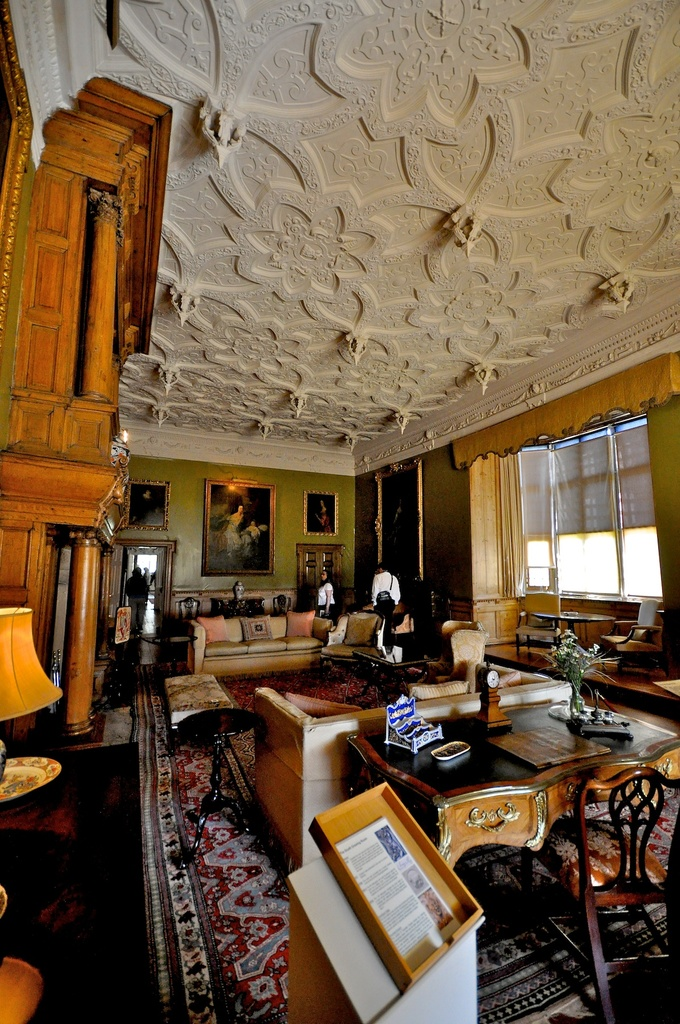Table: (342, 699, 679, 882)
